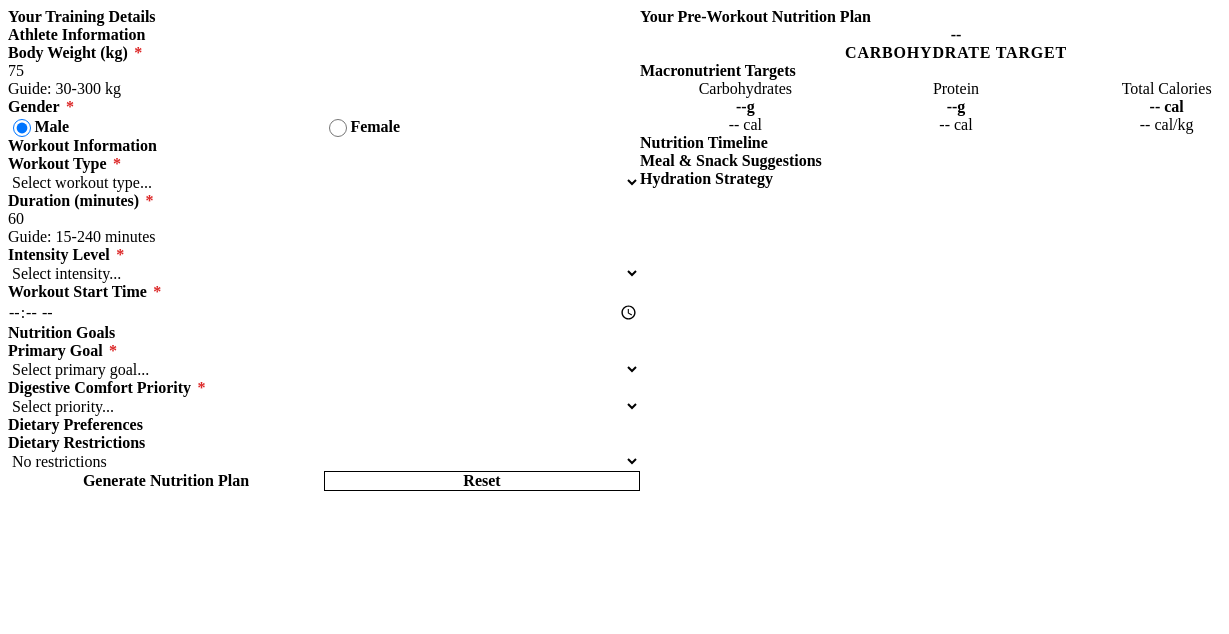
PreWorkoutNutritionPlanner › validates the required training details
The image size is (1229, 634).
Click the button "Generate Nutrition Plan": (166, 481) top-left (8, 471), bottom-right (324, 491)
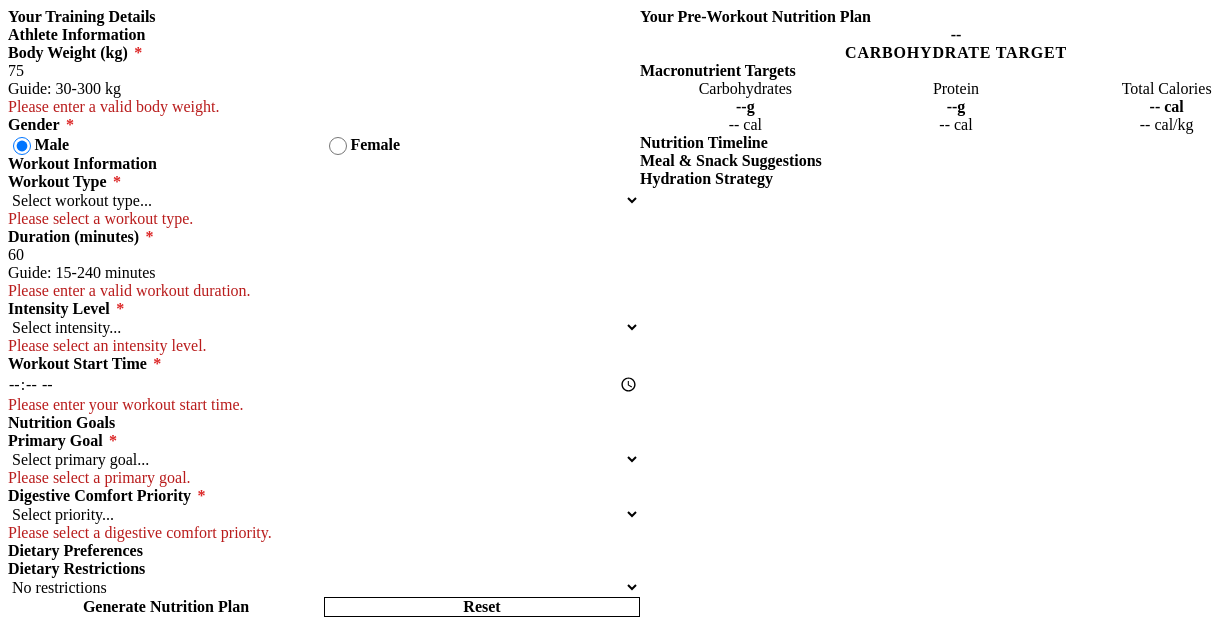
Expected: the text "Please enter a valid body weight." is shown, top-left (8, 98), bottom-right (220, 115)
Expected: the text "Please select a workout type." is shown, top-left (8, 210), bottom-right (193, 227)
Expected: the text "Please enter a valid workout duration." is shown, top-left (8, 282), bottom-right (251, 299)
